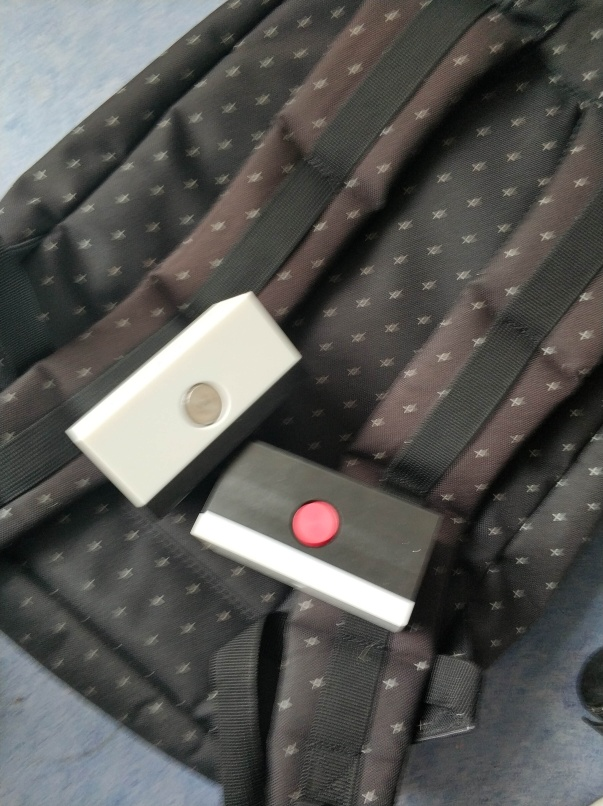black+white+silver: (57, 288, 307, 527)
white+black+red: (182, 440, 451, 637)
